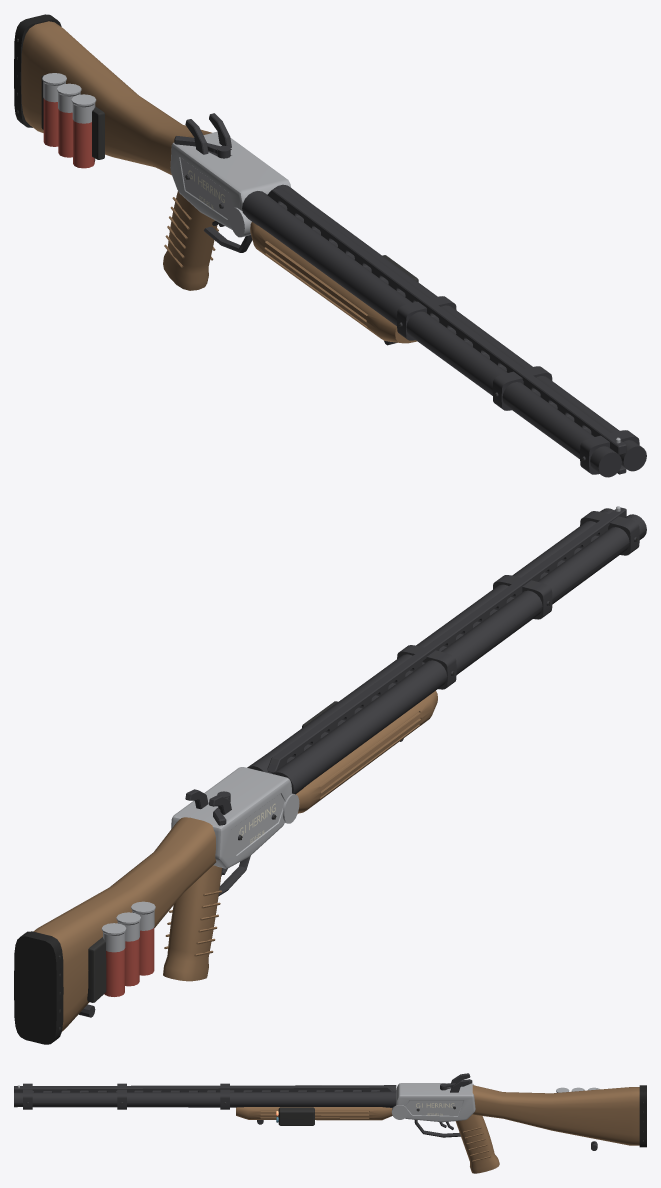
Rendered from herring.glb.
3 views of the same model, one above another, from view 1: azimuth 30°, elevation 25°; view 2: azimuth 150°, elevation 25°; view 3: azimuth 270°, elevation 25° (orthographic). The views are drawn at different scales.
Parts seen in each view (by area): view 1: Body; view 2: Body; view 3: Body, opt_laser.
Part boxes in pixels (x1,y1,x2,y2): Body: (14,14,646,477); Body: (14,506,646,1044); Body: (14,1073,646,1173); opt_laser: (276,1107,314,1125).
Bounding box in the file's own units: 0.0855 × 0.1719 × 1.04.
